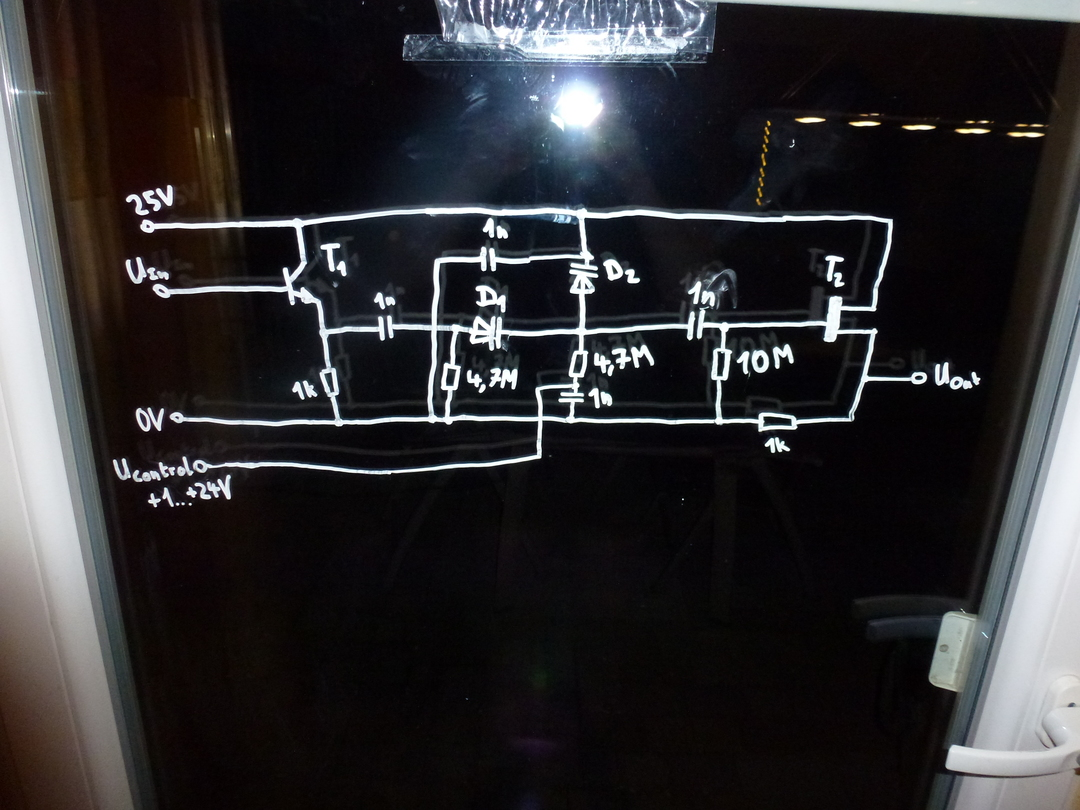capacitor.unpolarized: (684, 309, 707, 341), (478, 246, 500, 273), (376, 314, 397, 342), (558, 391, 585, 405)
crossover: (428, 322, 441, 335), (535, 413, 547, 424)
diode: (468, 315, 503, 351), (568, 262, 599, 295)
junction: (574, 206, 588, 222), (717, 320, 732, 334), (575, 324, 589, 338), (291, 216, 304, 230), (579, 250, 595, 261), (449, 322, 462, 335), (442, 414, 455, 426), (332, 416, 345, 428), (317, 327, 331, 338), (425, 413, 437, 425), (713, 416, 725, 428), (432, 255, 444, 267), (859, 373, 871, 384), (565, 414, 577, 425), (532, 384, 544, 394), (534, 451, 544, 462), (885, 217, 895, 227), (570, 381, 580, 390), (846, 415, 856, 423)
resistor: (756, 411, 799, 433), (710, 347, 732, 381), (318, 365, 340, 399), (440, 361, 462, 393), (567, 348, 589, 380)
terminal: (151, 282, 174, 301), (138, 218, 158, 234), (909, 370, 927, 387), (192, 458, 209, 474), (169, 410, 185, 425)
text: (146, 474, 232, 509), (111, 454, 194, 483), (591, 343, 655, 377), (735, 343, 795, 375), (125, 184, 176, 216), (465, 366, 520, 394), (933, 361, 981, 391), (124, 255, 170, 285), (318, 242, 348, 278), (602, 258, 641, 284), (132, 405, 166, 433), (475, 284, 507, 313), (823, 254, 848, 288), (687, 280, 716, 307), (587, 386, 615, 410), (482, 217, 509, 240), (290, 379, 318, 401), (764, 436, 791, 454), (373, 291, 397, 310)
transistor: (821, 294, 883, 344), (281, 260, 325, 308)
